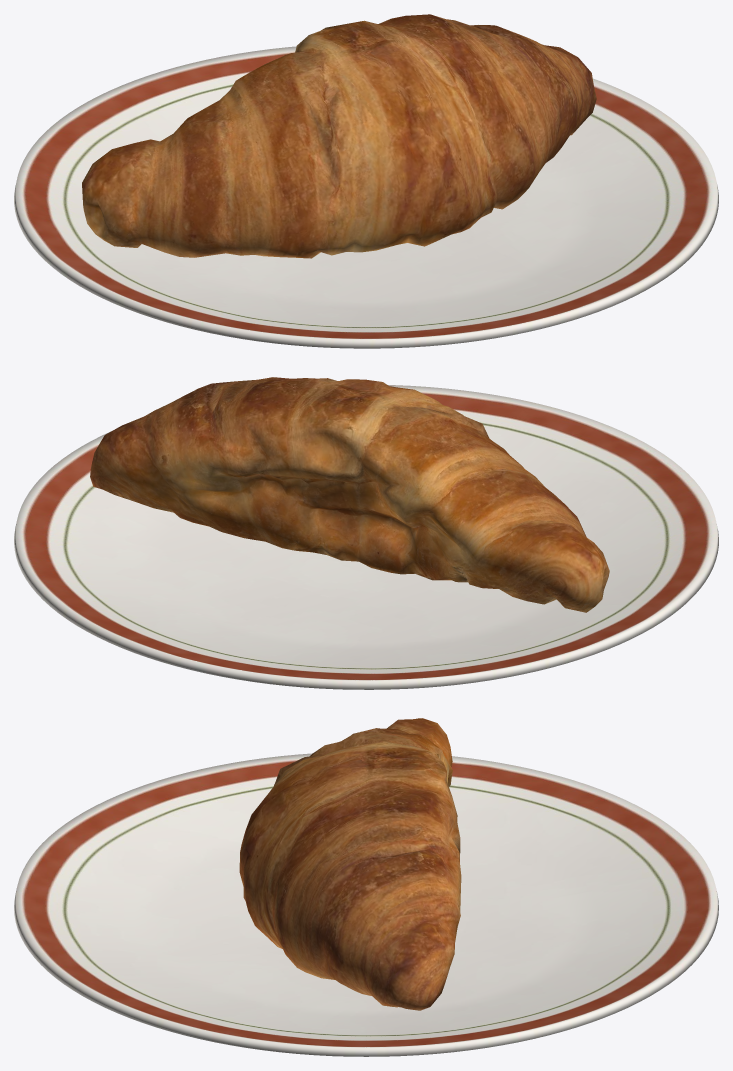
Rendered from cornetto-alla-crema.glb.
3 views of the same model, one above another, from view 1: azimuth 30°, elevation 25°; view 2: azimuth 150°, elevation 25°; view 3: azimuth 270°, elevation 25° (orthographic).
Parts seen in each view (by area): view 1: Prato, croissant; view 2: Prato, croissant; view 3: Prato, croissant.
Part boxes in pixels (x1,y1,x2,y2): Prato: (14, 46, 718, 348); croissant: (82, 14, 596, 258); Prato: (14, 385, 718, 689); croissant: (90, 377, 609, 612); Prato: (14, 753, 718, 1056); croissant: (239, 718, 461, 1010).
Size of the model in its own units: 0.24 by 0.0725 by 0.24.
2 materials, 2 textured.
